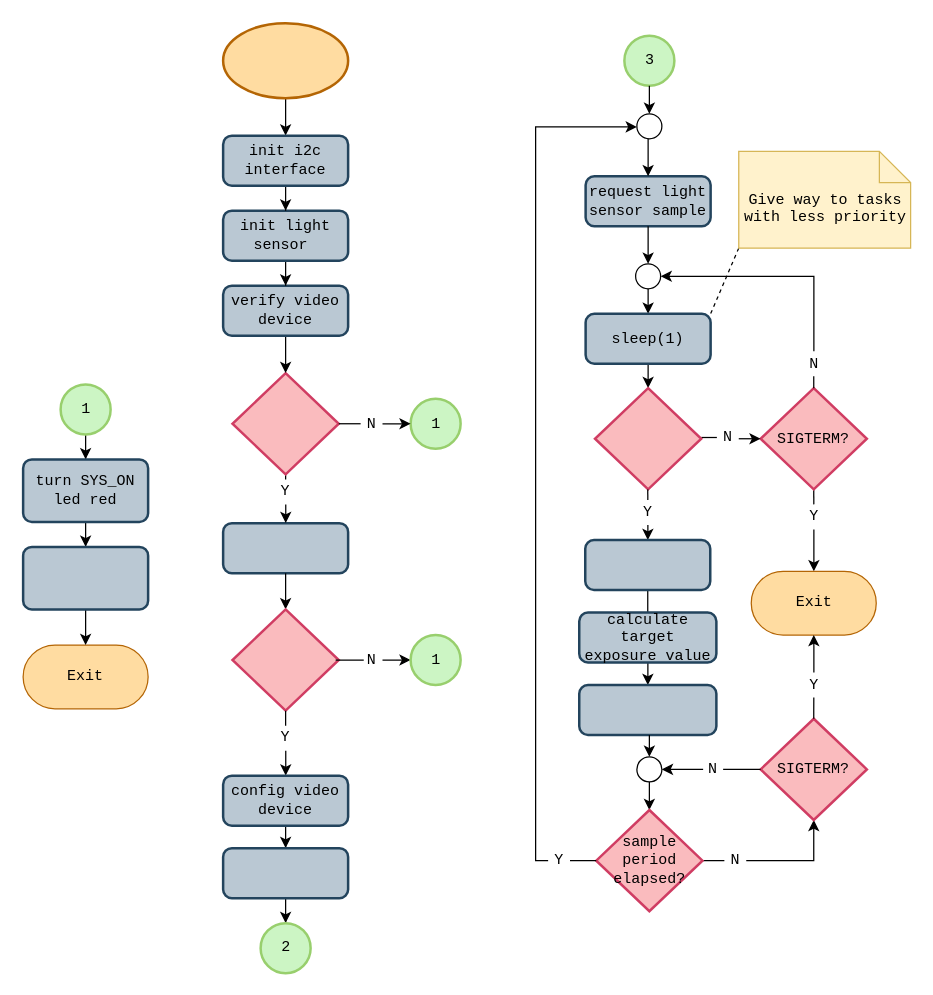
This 933x995 diagram has some shape labels left out. Here are the shapes that lost their labels. From the top down, the centre of each, then its label:
At [285,60]: "Start".
At [285,423]: "device exists?".
At [647,438]: "response arrived?".
At [285,547]: "open video device".
At [647,564]: "calculate luminous flux".
At [85,577]: "terminate <- 1".
At [285,659]: "success open?".
At [647,709]: "send command to change exposure".
At [285,872]: "signal condition".
